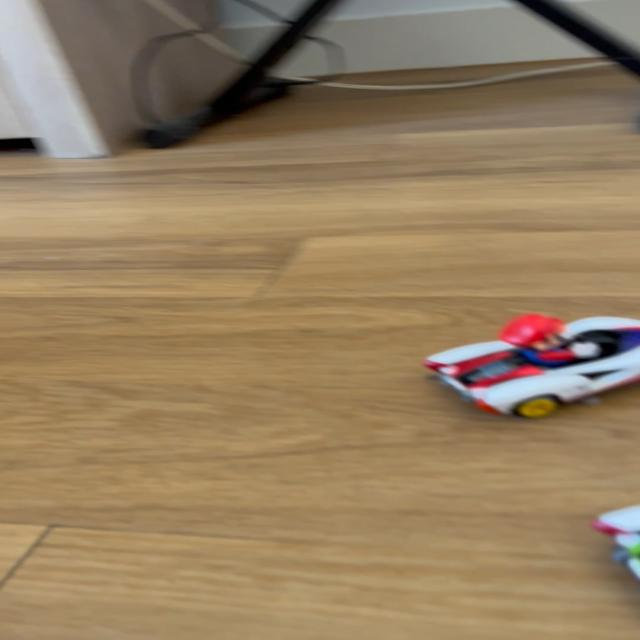mario: (408, 306, 640, 424)
